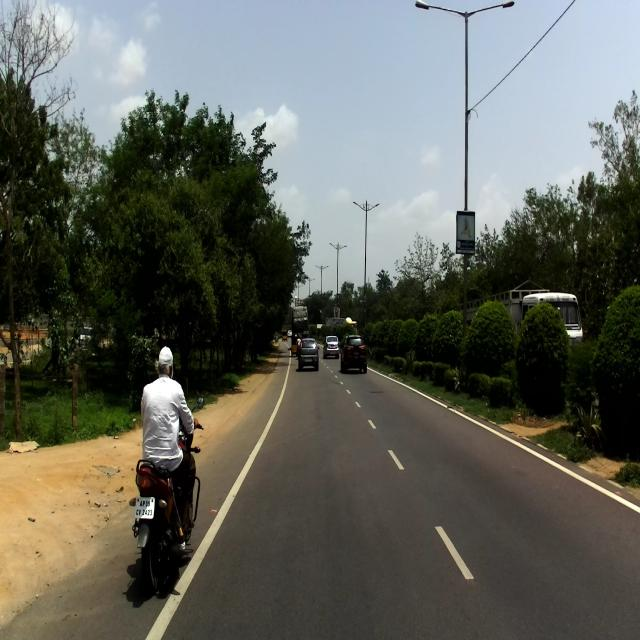car: (339, 333, 368, 372)
motorcycle: (129, 396, 204, 591)
